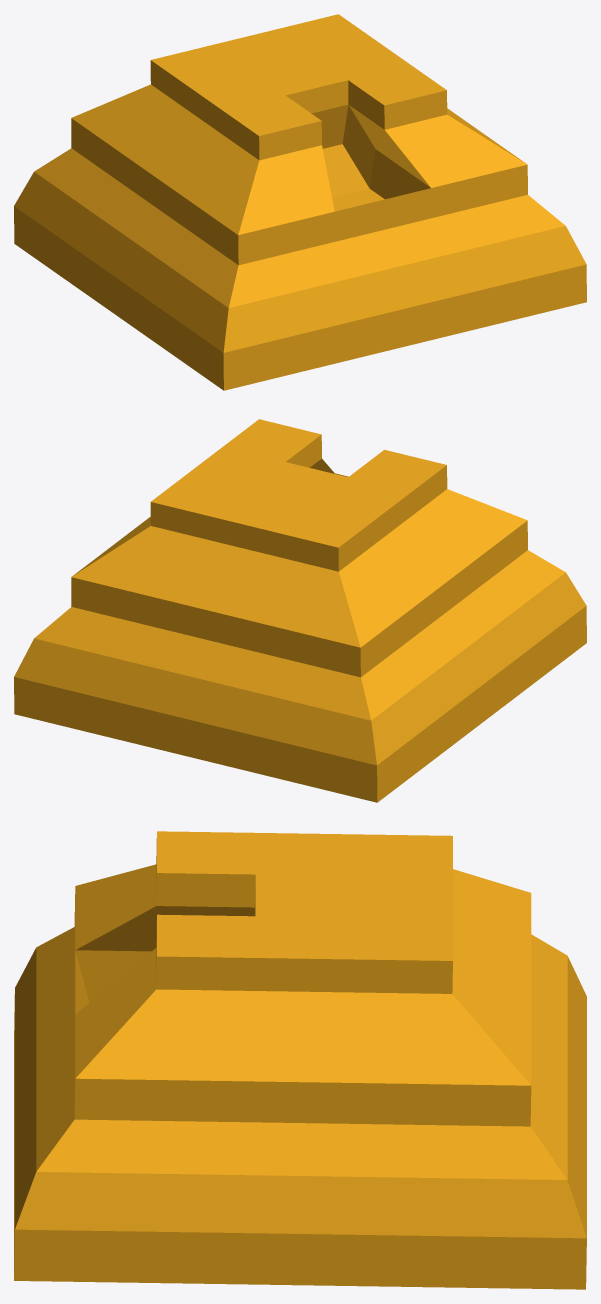
File: gomibako_head.obj
3 views of the same model, one above another, from view 1: azimuth 30°, elevation 25°; view 2: azimuth 150°, elevation 25°; view 3: azimuth 270°, elevation 25° (orthographic). The views are drawn at different scales.
Parts seen in each view (by area): view 1: 立方体.003; view 2: 立方体.003; view 3: 立方体.003.
Part boxes in pixels (bbox=[...]): 立方体.003: bbox=[14, 14, 586, 390]; 立方体.003: bbox=[14, 419, 586, 802]; 立方体.003: bbox=[14, 831, 586, 1289].
Size of the model in its own units: 2.54 by 1.35 by 2.54.
